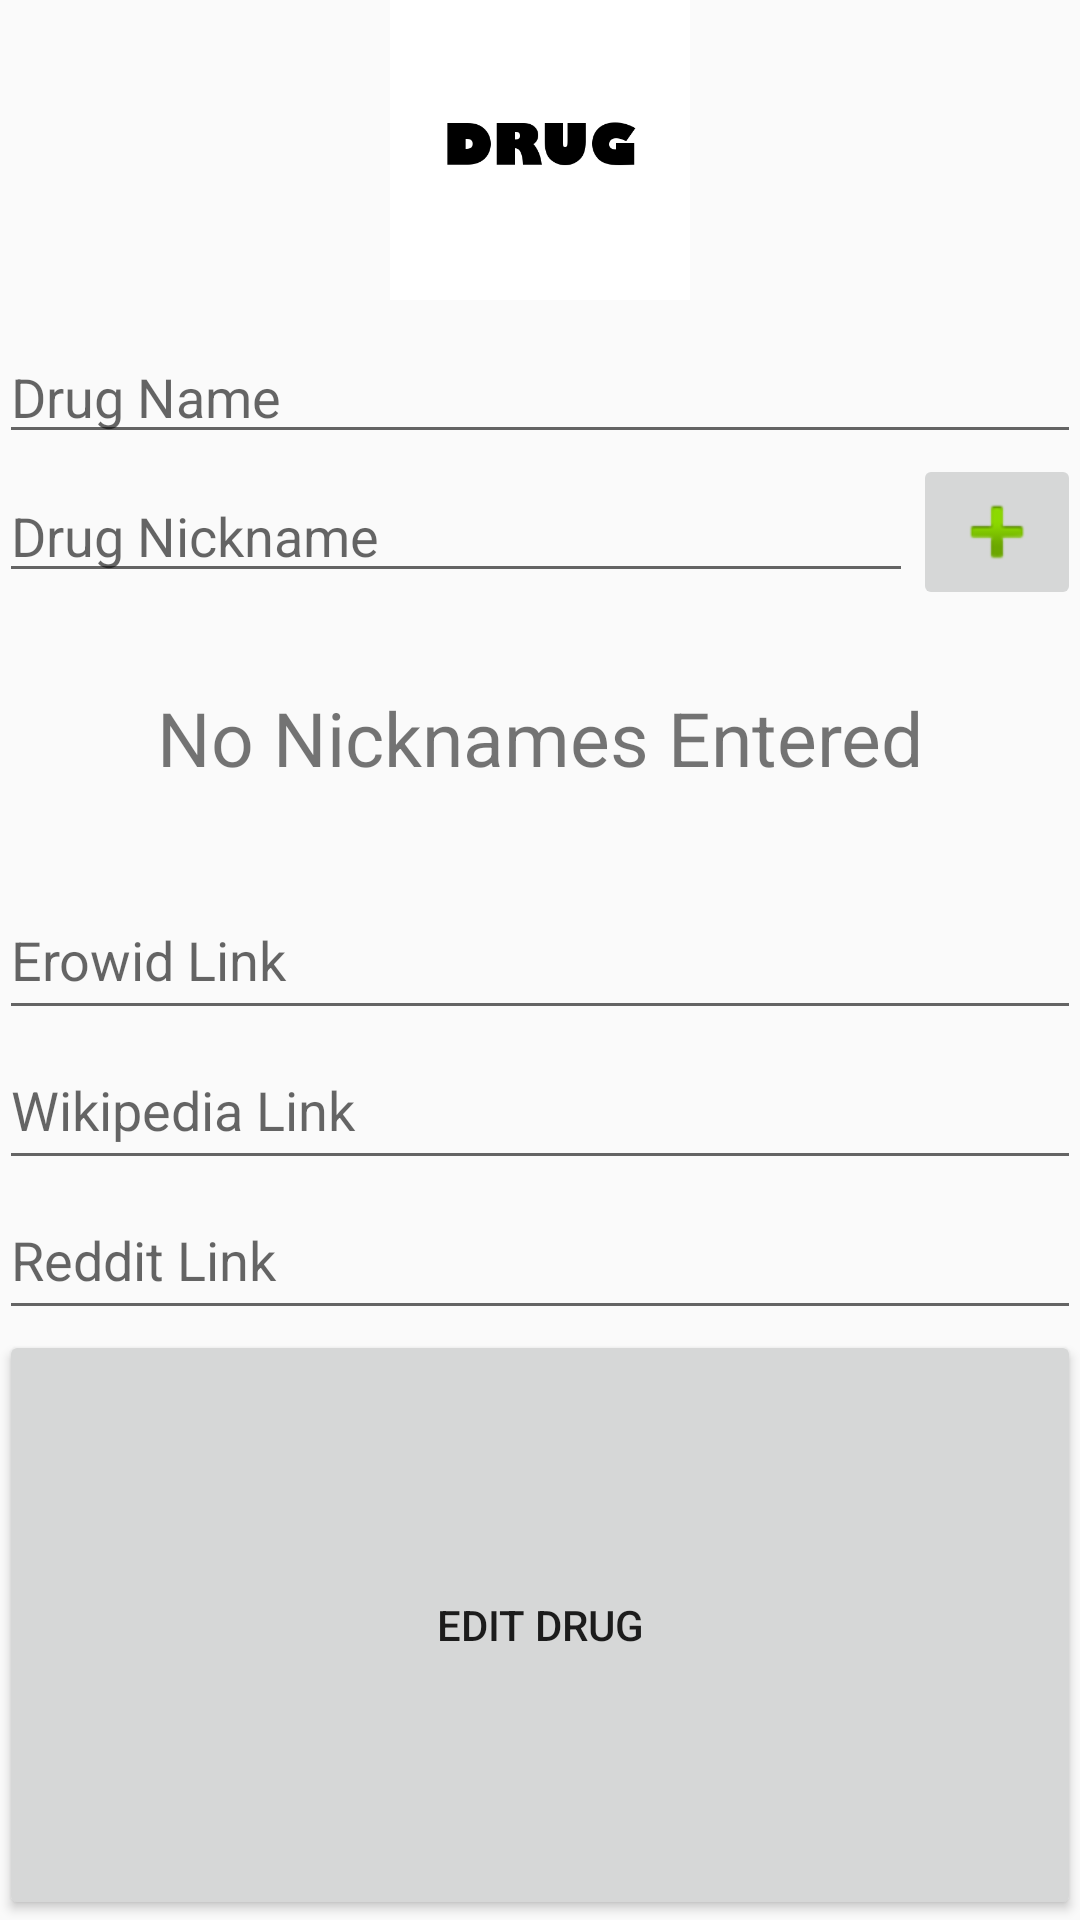

Locate icon controls on the screen. Image size 1080w x 1920h, boxes as [x1=x1, y1=y1, x2=x2, y2=y2].
add: [x1=925, y1=472, x2=1069, y2=592]
